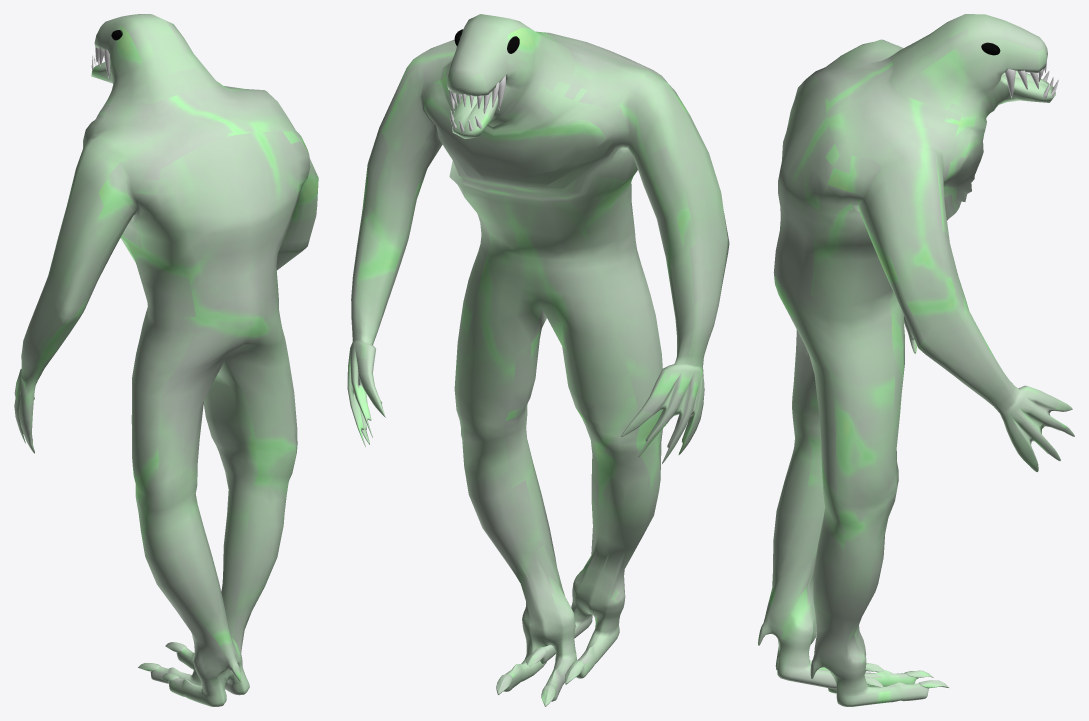
The model's file is Berserkerandar.0099.obj.
3 renders of one model, left to right at view 1: azimuth 30°, elevation 25°; view 2: azimuth 150°, elevation 25°; view 3: azimuth 270°, elevation 25°, orthographic. The views are drawn at different scales.
Visible parts, largest first — view 1: polySurface27; view 2: polySurface27; view 3: polySurface27.
Part boxes in pixels (x1,y1,x2,y2): polySurface27: (14,14,318,706); polySurface27: (347,14,729,706); polySurface27: (758,14,1074,706).
Bounding box in the file's own units: 11.87 × 24.17 × 10.23.
1 material, 1 textured.
